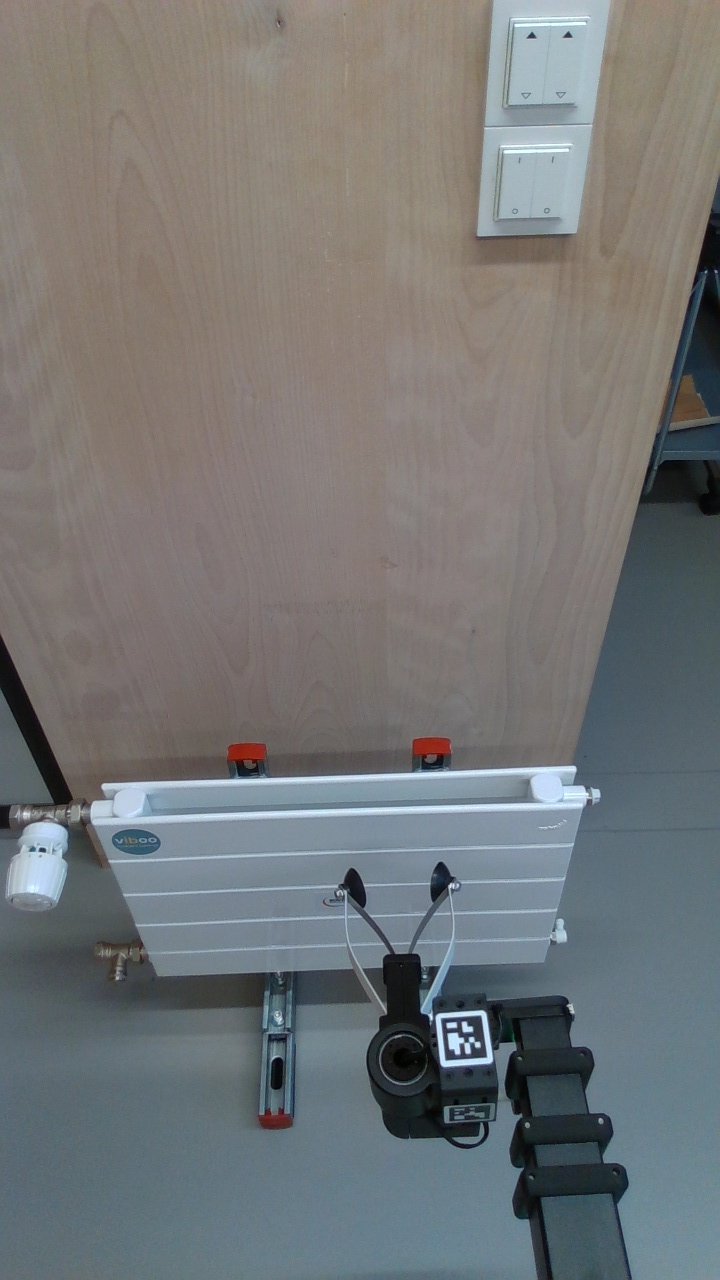Knob_Radiator: (1, 809, 83, 923)
Light_Switch: (490, 3, 600, 123), (483, 126, 586, 237)
Radiator: (83, 767, 581, 981)
